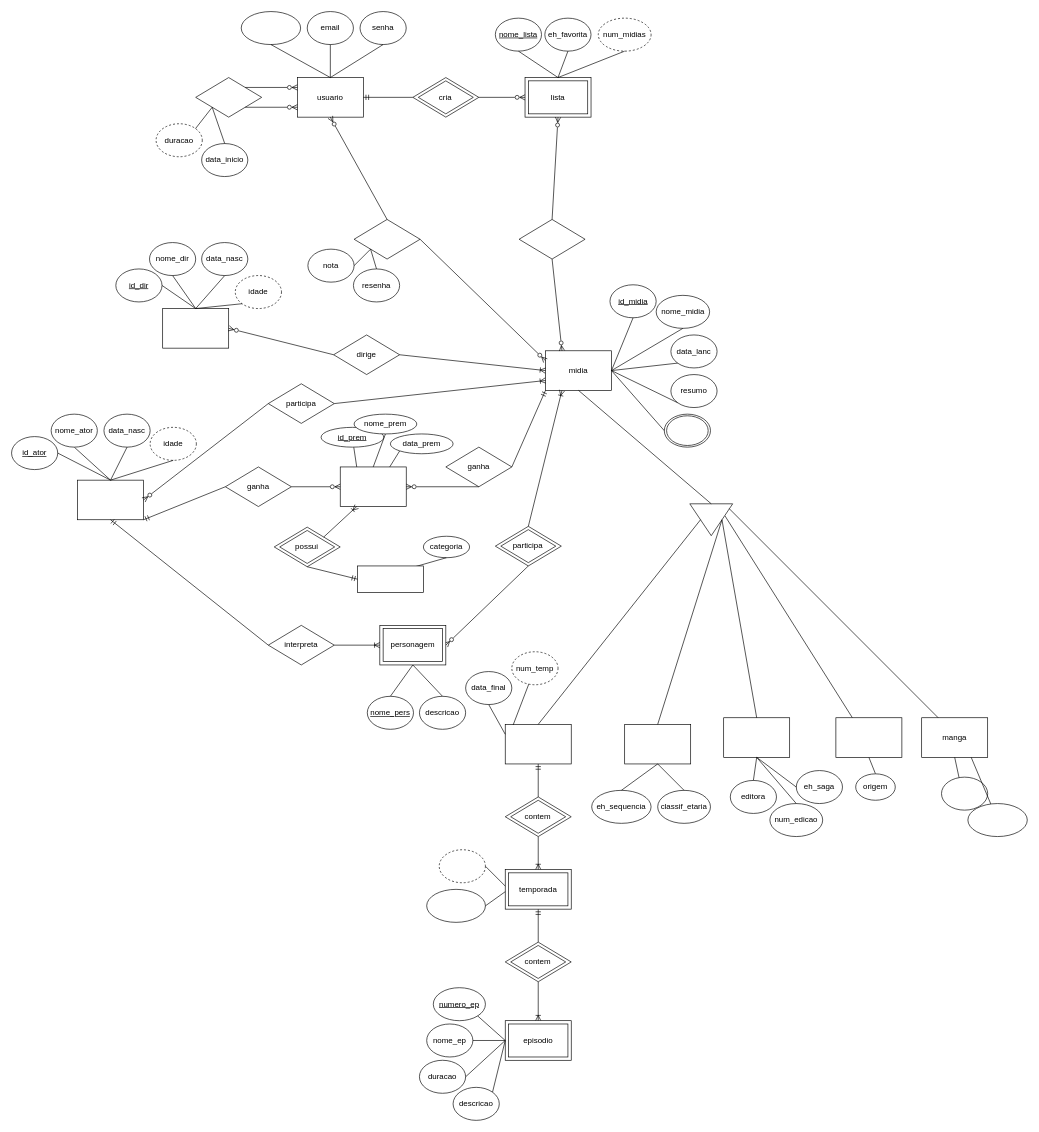
Image size: 1039x1132. Some labels were removed from this diagram. The shapes that lost their labels are listed below. From the top down, each one's centre as x and y in pixels, then its label:
At (271,28): "nome_usuario".
At (228,97): "amizade".
At (386,239): "avalia".
At (551,239): "pertence".
At (195,328): "diretor".
At (687,430): "generos".
At (110,499): "ator".
At (373,486): "premio".
At (390,578): "premiacao".
At (538,744): "serie".
At (657,744): "filme".
At (756,737): "livro".
At (868,737): "musica".
At (964,793): "tem_anime".
At (997,820): "nome_estudio".
At (462,866): "num_eps".
At (455,905): "numero_temp".
